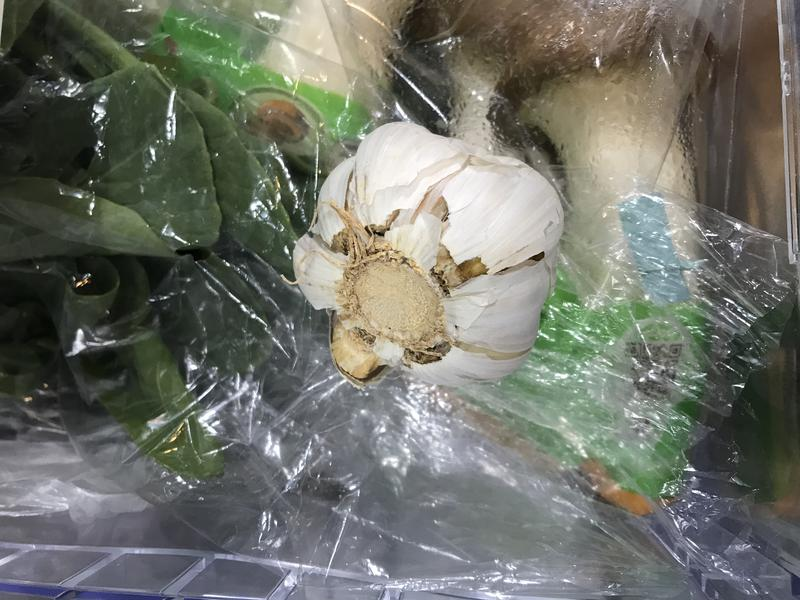garlic: (285, 116, 569, 395)
